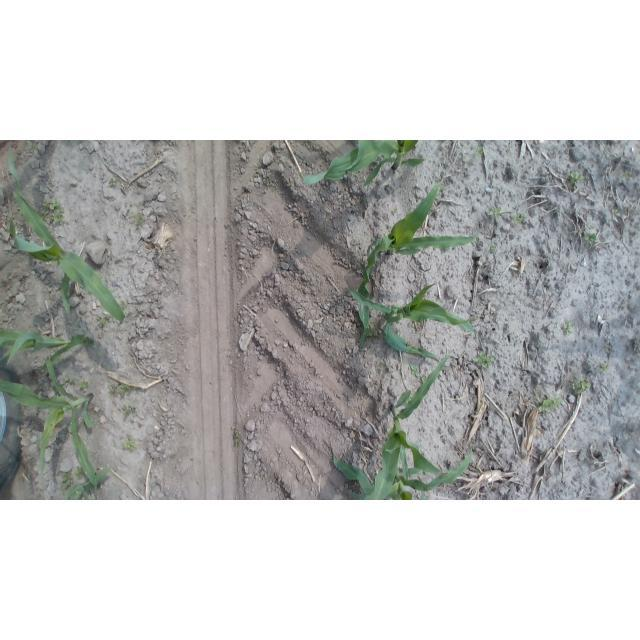Maize: (355, 178, 482, 350), (5, 148, 126, 325), (350, 354, 453, 500), (0, 358, 106, 489), (345, 284, 480, 365), (326, 449, 474, 500), (300, 141, 425, 188), (0, 323, 96, 373), (64, 469, 110, 500)
Weeds: (40, 197, 69, 228), (533, 391, 564, 414), (568, 375, 592, 397), (472, 351, 498, 369), (408, 364, 429, 385), (582, 229, 601, 251), (107, 384, 133, 399), (566, 171, 586, 188), (60, 469, 74, 493), (126, 212, 145, 229), (121, 436, 139, 452), (121, 404, 138, 418), (486, 204, 502, 218), (561, 319, 573, 337), (512, 211, 526, 225), (366, 325, 378, 340), (232, 429, 241, 447), (74, 466, 86, 479), (609, 206, 621, 219), (95, 316, 109, 327), (63, 376, 78, 386), (107, 176, 118, 189), (599, 361, 610, 374), (475, 146, 487, 157), (620, 168, 630, 181), (80, 381, 90, 391), (489, 243, 497, 254)
